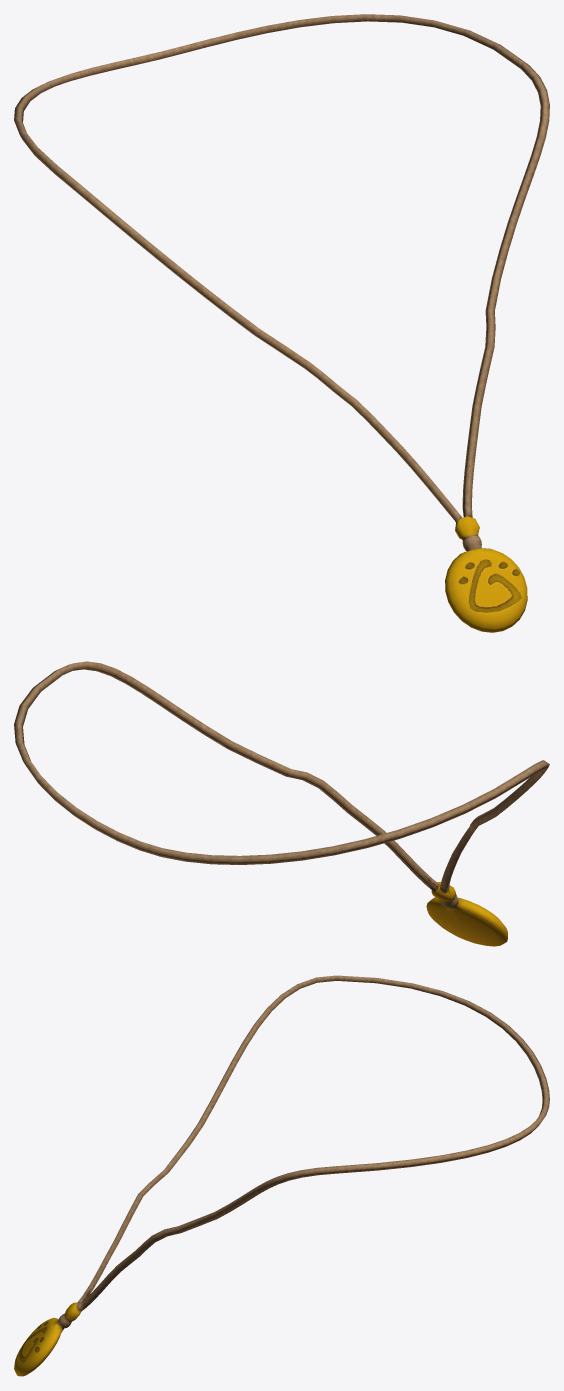
File: Necklace.fbx
3 views of the same model, one above another, from view 1: azimuth 30°, elevation 25°; view 2: azimuth 150°, elevation 25°; view 3: azimuth 270°, elevation 25° (orthographic). The views are drawn at different scales.
Visible parts, largest first — view 1: TribalNecklace; view 2: TribalNecklace; view 3: TribalNecklace.
Part boxes in pixels (x1,y1,x2,y2): TribalNecklace: (14,14,549,632); TribalNecklace: (14,661,549,946); TribalNecklace: (14,975,549,1376).
Size of the model in its own units: 1.42 by 1.08 by 1.73.
Materials: 1 (1 with a texture image).
